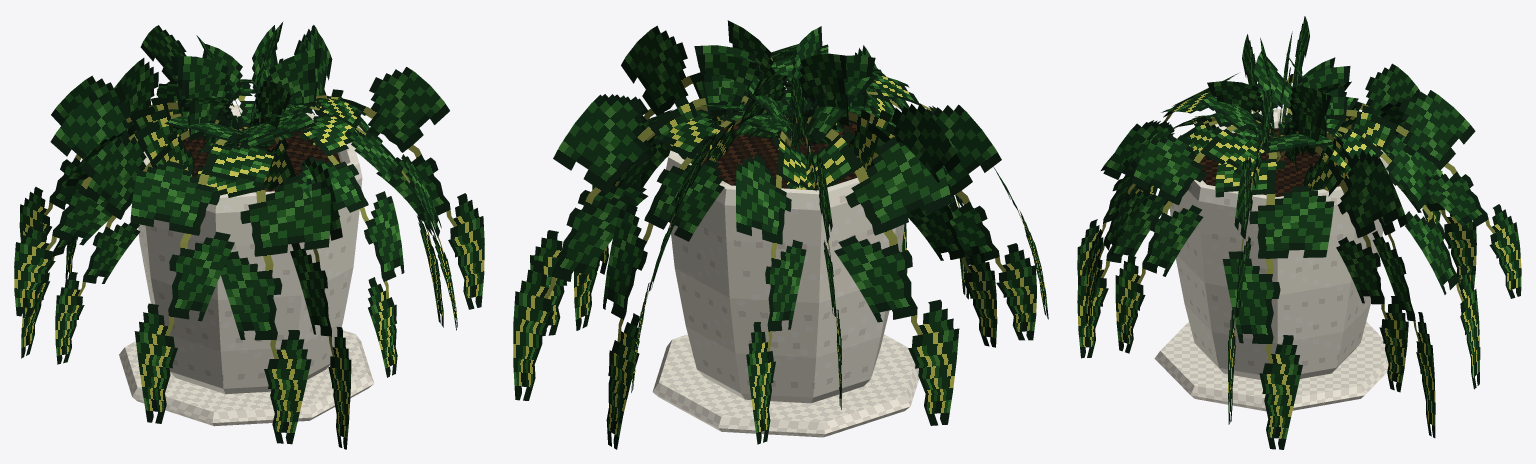
The model's file is pothos.obj.
The picture shows the model from 3 angles, left to right: view 1: azimuth 30°, elevation 25°; view 2: azimuth 150°, elevation 25°; view 3: azimuth 270°, elevation 25°; orthographic projection. The views are drawn at different scales.
Parts seen in each view (by area): view 1: Pot, Vine_006, Vine_007, Vine_008, Vine_010, Vine_001, Vine_011, Saucer, Vine_004, Vine_015, Vine_014, Vine_003 (+7 smaller); view 2: Pot, Vine_009, Vine_000, Vine_012, Saucer, Vine_010, Vine_003, Vine_001, Vine_008, Vine_013, Vine_002, Vine_015 (+6 smaller); view 3: Pot, Vine_005, Vine_002, Vine_014, Vine_013, Saucer, Vine_012, Vine_004, Vine_000, Vine_011, Vine_008, Vine_003 (+7 smaller).
Boxes of the visible parts, left/top/right/bottom form: Pot: left=138, top=105, right=362, bottom=394; Vine_006: left=130, top=116, right=274, bottom=423; Vine_007: left=198, top=111, right=330, bottom=444; Vine_008: left=258, top=48, right=484, bottom=309; Vine_010: left=14, top=56, right=240, bottom=316; Vine_001: left=55, top=77, right=239, bottom=364; Vine_011: left=241, top=114, right=404, bottom=377; Saucer: left=119, top=330, right=374, bottom=426; Vine_004: left=249, top=81, right=351, bottom=449; Vine_015: left=19, top=56, right=239, bottom=240; Vine_014: left=260, top=98, right=457, bottom=330; Vine_003: left=65, top=44, right=244, bottom=279; Pot: left=666, top=109, right=904, bottom=403; Vine_009: left=786, top=74, right=959, bottom=425; Vine_000: left=513, top=45, right=780, bottom=400; Vine_012: left=603, top=109, right=793, bottom=449; Saucer: left=652, top=334, right=919, bottom=437; Vine_010: left=791, top=53, right=997, bottom=347; Vine_003: left=736, top=78, right=807, bottom=444; Vine_001: left=804, top=55, right=1036, bottom=340; Vine_008: left=592, top=20, right=787, bottom=274; Vine_013: left=530, top=54, right=780, bottom=336; Vine_002: left=631, top=74, right=789, bottom=392; Vine_015: left=788, top=78, right=841, bottom=409; Pot: left=1169, top=108, right=1388, bottom=379; Vine_005: left=1215, top=133, right=1334, bottom=449; Vine_002: left=1278, top=66, right=1521, bottom=298; Vine_014: left=1115, top=98, right=1282, bottom=353; Vine_013: left=1280, top=89, right=1408, bottom=392; Saucer: left=1154, top=322, right=1388, bottom=411; Vine_012: left=1280, top=97, right=1480, bottom=389; Vine_004: left=1077, top=81, right=1278, bottom=358; Vine_000: left=1282, top=86, right=1435, bottom=437; Vine_011: left=1086, top=97, right=1262, bottom=326; Vine_008: left=1228, top=89, right=1274, bottom=424; Vine_003: left=1278, top=81, right=1476, bottom=291.
Size of the model in its own units: 3.2 by 2.36 by 3.1.
